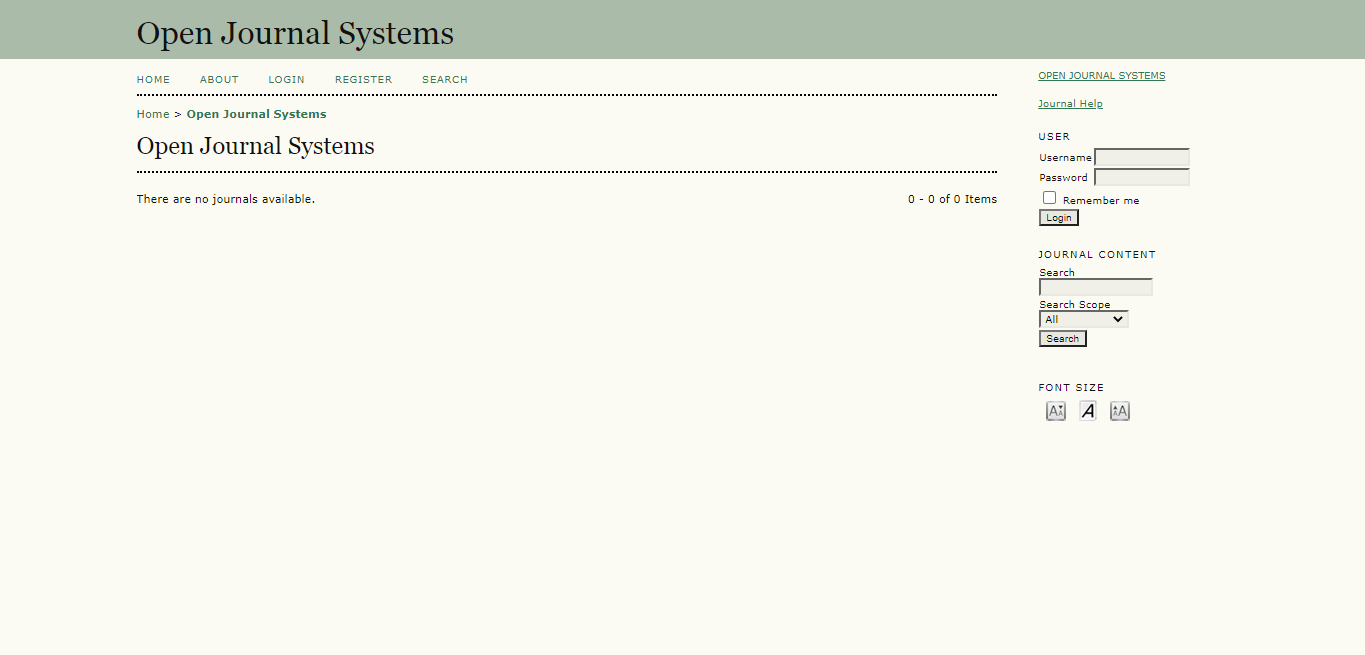Button: (1039, 328, 1088, 346), (1037, 208, 1080, 227), (1044, 399, 1067, 421), (1077, 399, 1098, 423), (1107, 400, 1131, 421)
Menu Bar: (133, 62, 478, 92)
Nav Bar: (1034, 381, 1134, 424), (133, 104, 339, 124), (1037, 68, 1169, 88), (1036, 95, 1105, 114)
Side Bar: (1017, 62, 1200, 448)
Text Field: (1037, 277, 1154, 298), (1092, 146, 1192, 169), (1093, 168, 1192, 188)
